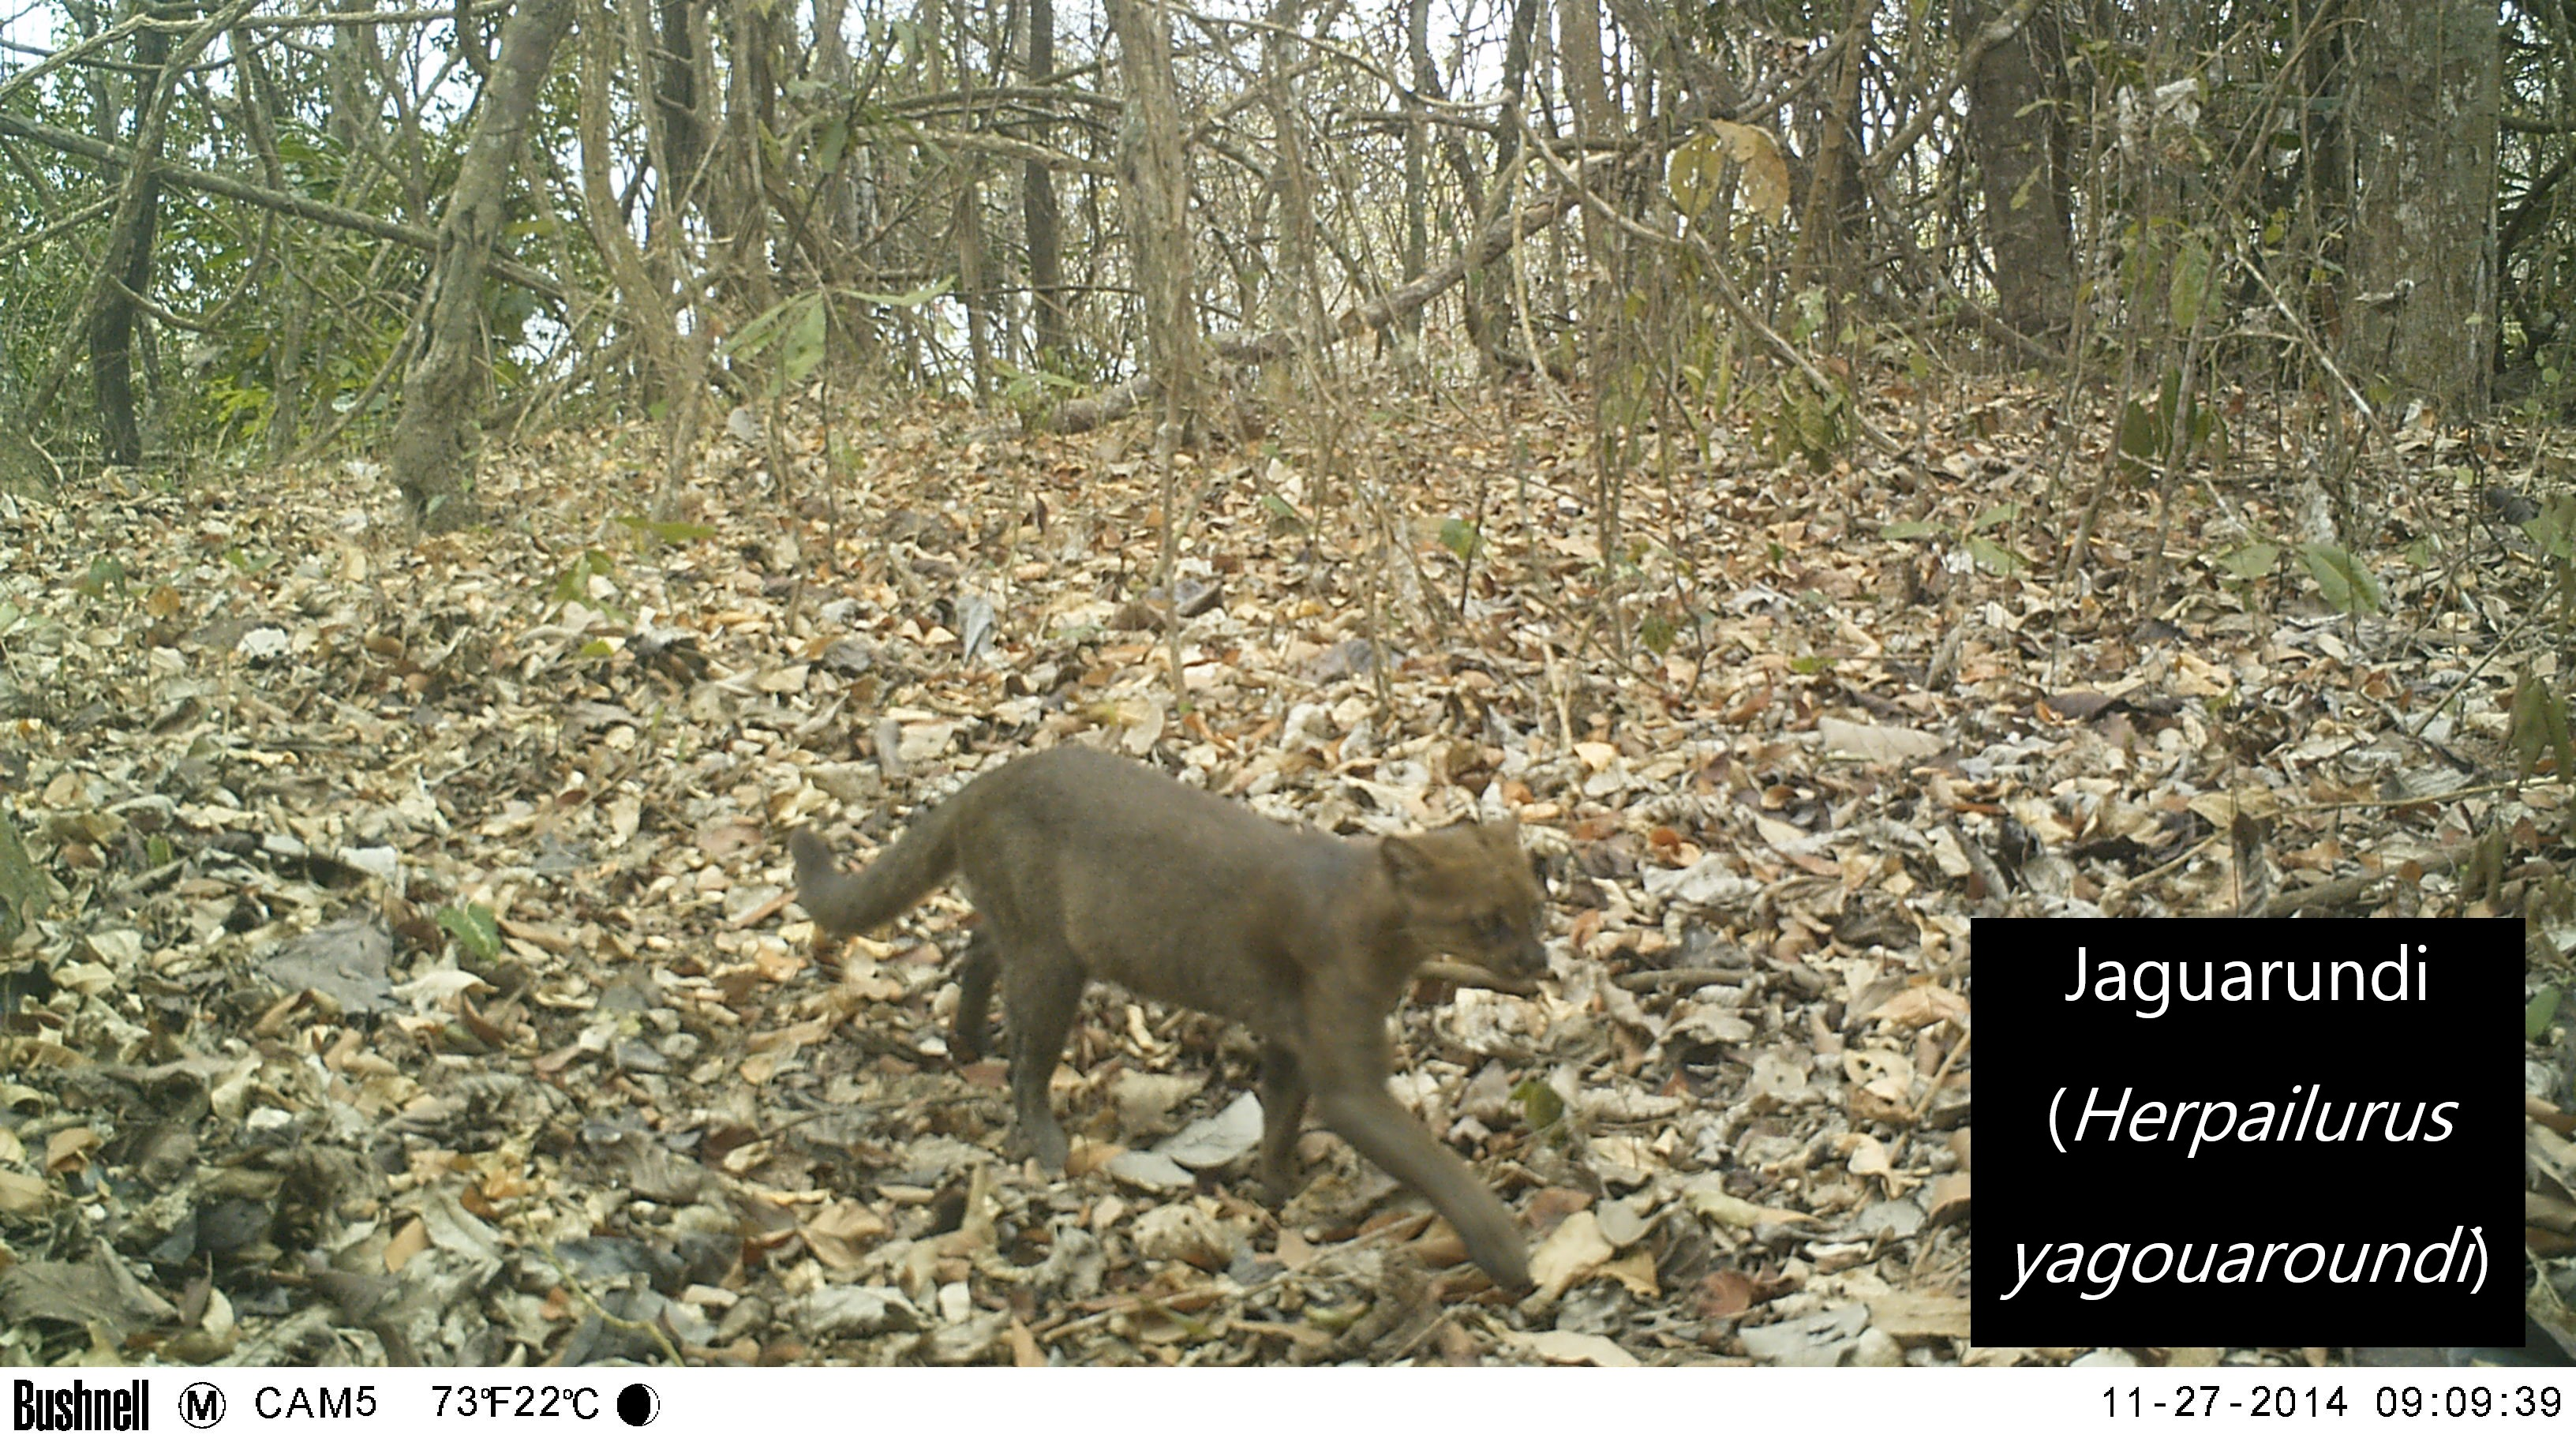Jaguarundi: (752, 738, 1603, 1310)
